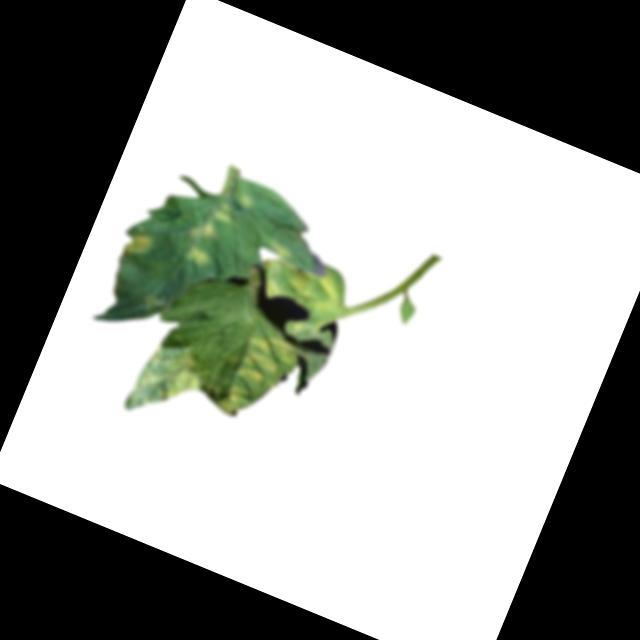Leaf_Mold: (252, 237, 357, 326), (218, 326, 306, 432), (122, 336, 213, 435), (180, 176, 253, 275), (121, 228, 158, 265)
